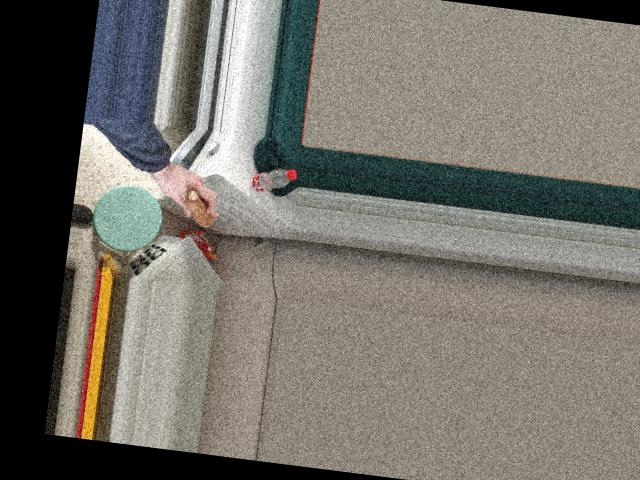sweet_potato: (177, 185, 222, 227)
